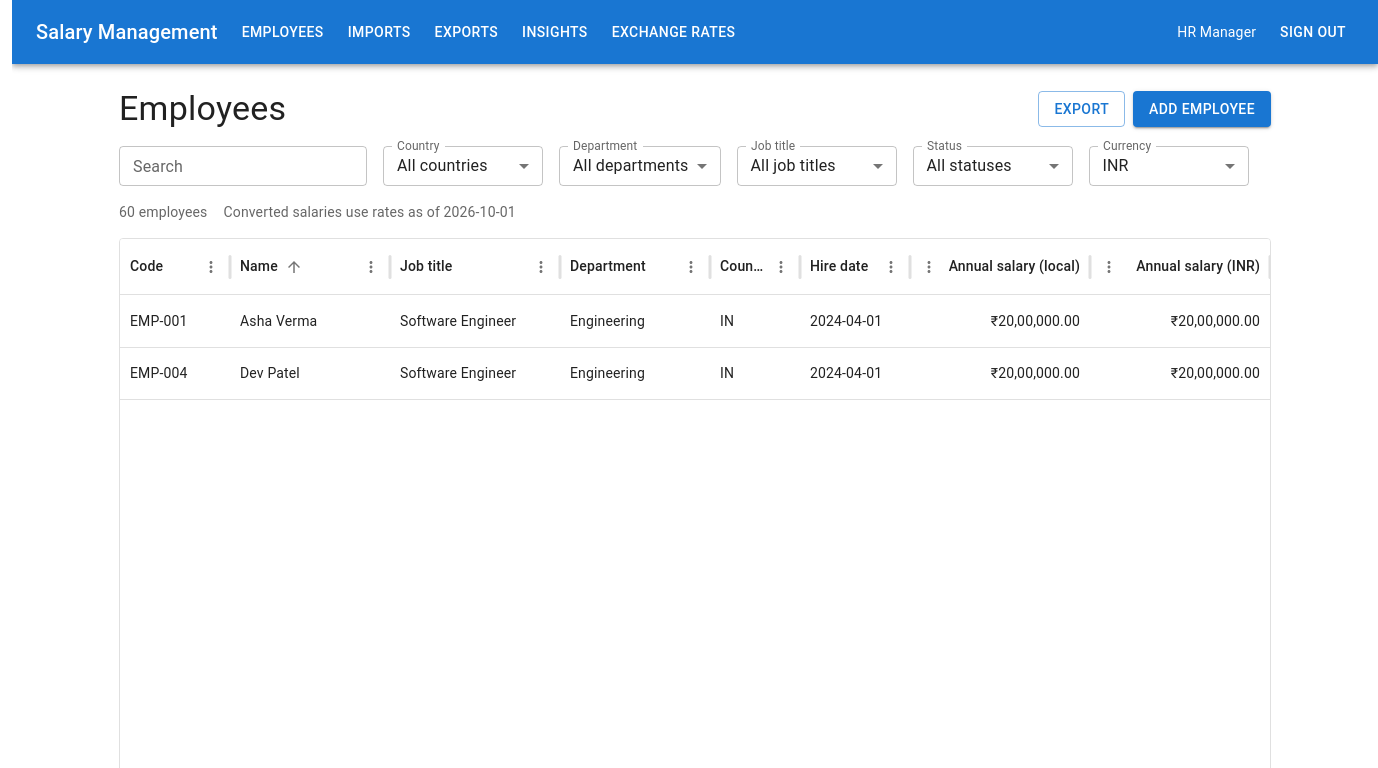
Scenario: employees list page › opens an employee when their row is clicked
What coordinates should you click on to do the following:
click the text "Asha Verma"
I would click on:
 (279, 321)
Its box is [240,313,317,329].
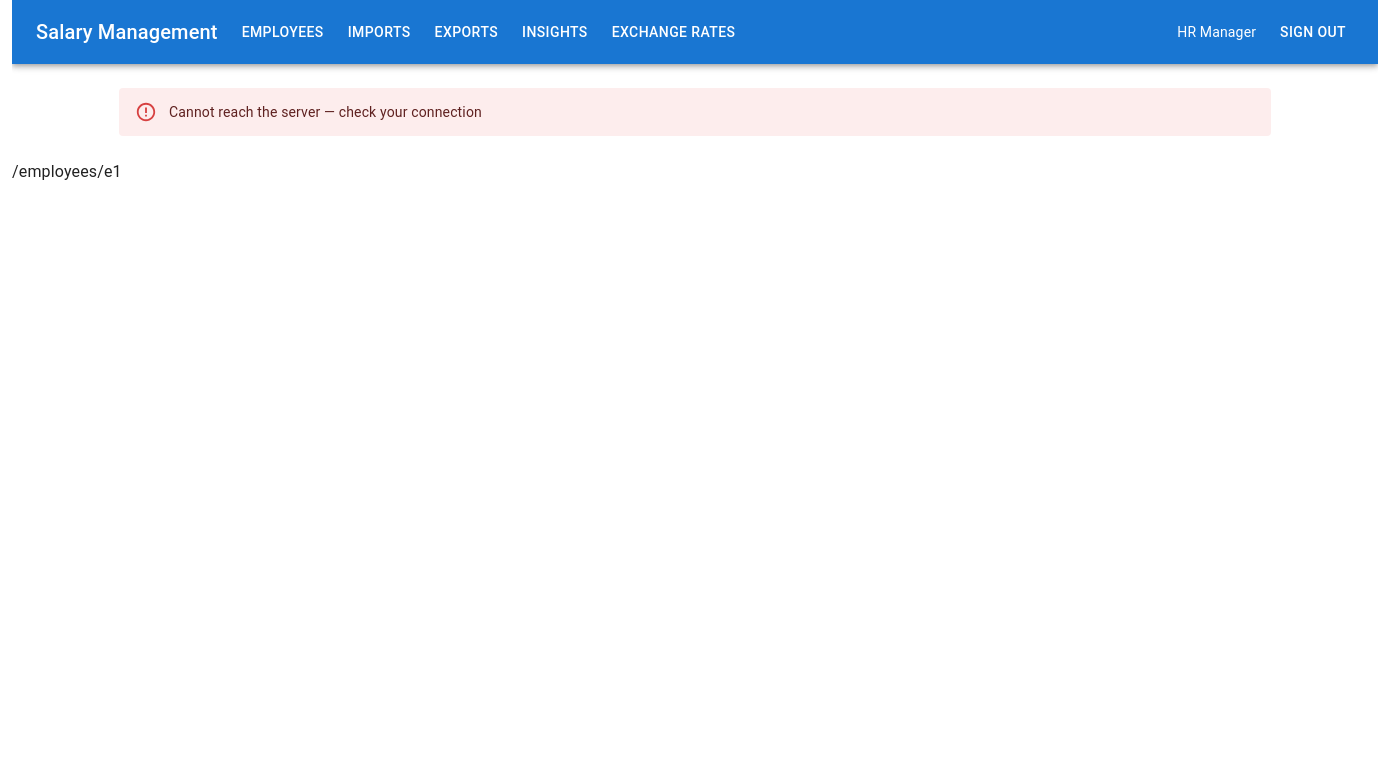
Now the text with test id "location" reads "/employees/e1", box [12,162,122,181]
